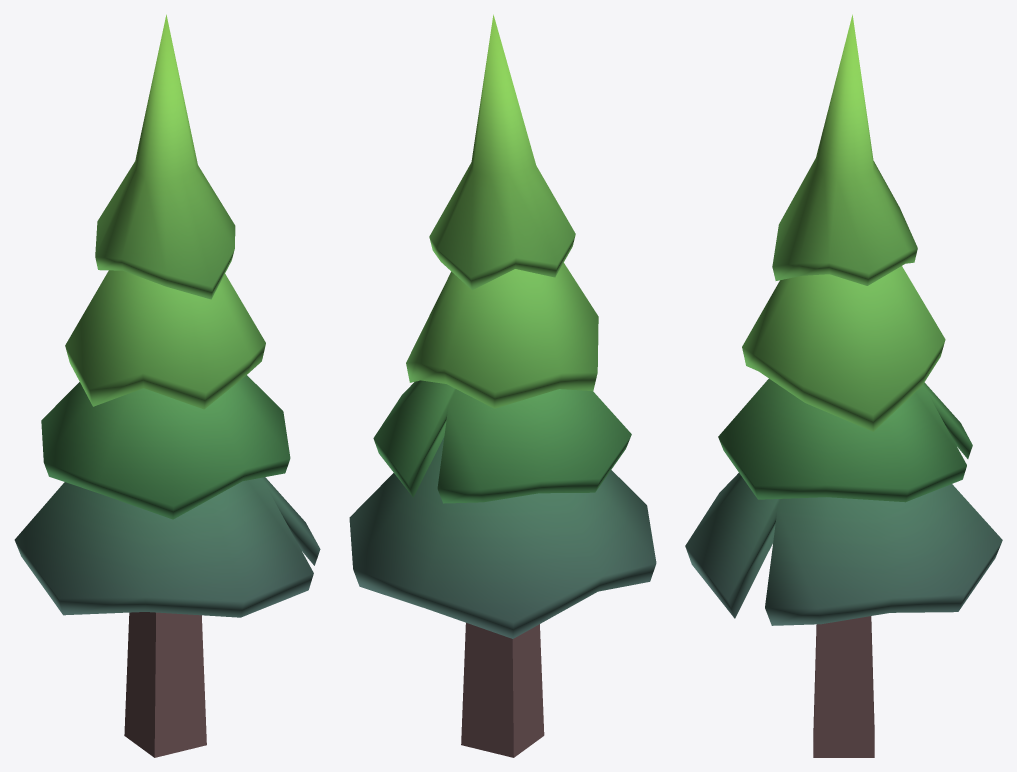
The model's file is Tree Big.fbx.
The picture shows the model from 3 angles, left to right: view 1: azimuth 30°, elevation 25°; view 2: azimuth 150°, elevation 25°; view 3: azimuth 270°, elevation 25°; orthographic projection.
Parts seen in each view (by area): view 1: Tree Big; view 2: Tree Big; view 3: Tree Big.
Part boxes in pixels (left/top/right/bottom): Tree Big: left=14, top=14, right=320, bottom=757; Tree Big: left=349, top=14, right=656, bottom=757; Tree Big: left=685, top=14, right=1002, bottom=757.
Size of the model in its own units: 302 by 809 by 318.
